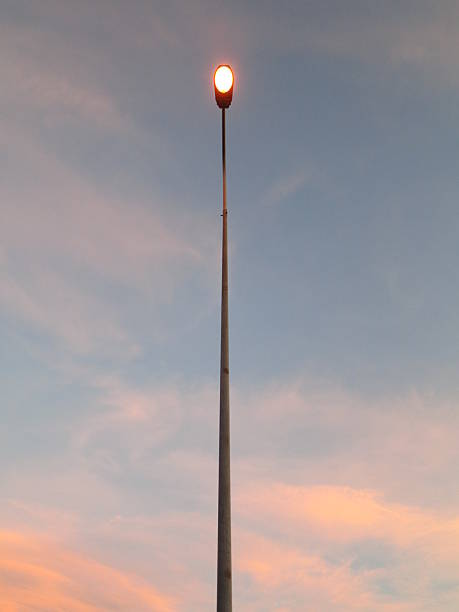light_pole: (215, 65, 233, 610)
